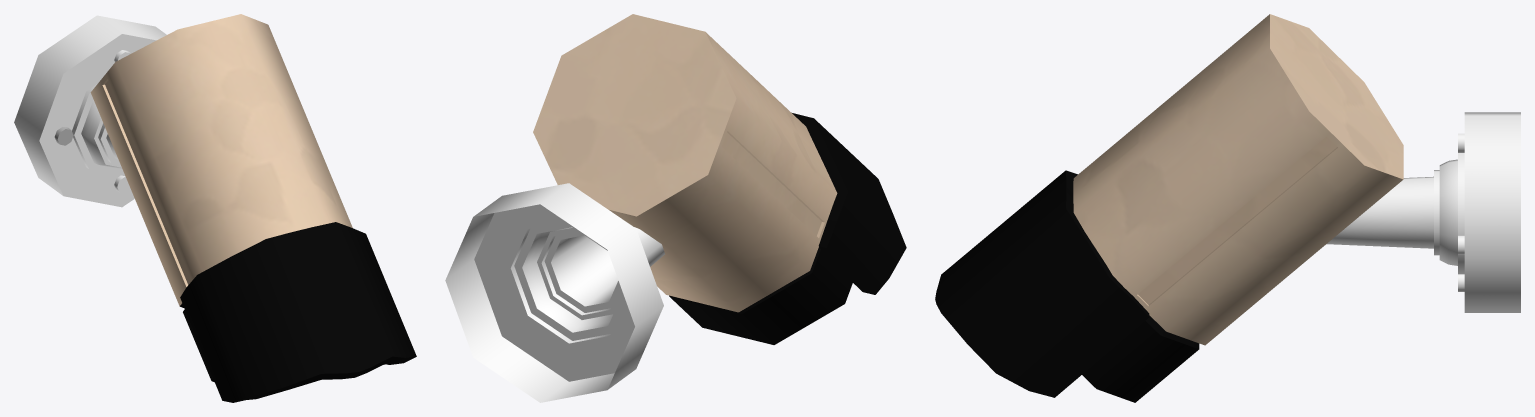
File: team cctv.fbx
3 views of the same model, side by side, from view 1: azimuth 30°, elevation 25°; view 2: azimuth 150°, elevation 25°; view 3: azimuth 270°, elevation 25° (orthographic). The views are drawn at different scales.
Visible parts, largest first — view 1: cctv; view 2: cctv; view 3: cctv.
Boxes of the visible parts, x1=… form: cctv: x1=14, y1=14, x2=416, y2=402; cctv: x1=445, y1=14, x2=906, y2=402; cctv: x1=935, y1=14, x2=1520, y2=402.
Bounding box in the file's own units: 62.82 × 113 × 169.
Materials: 1 (1 with a texture image).
